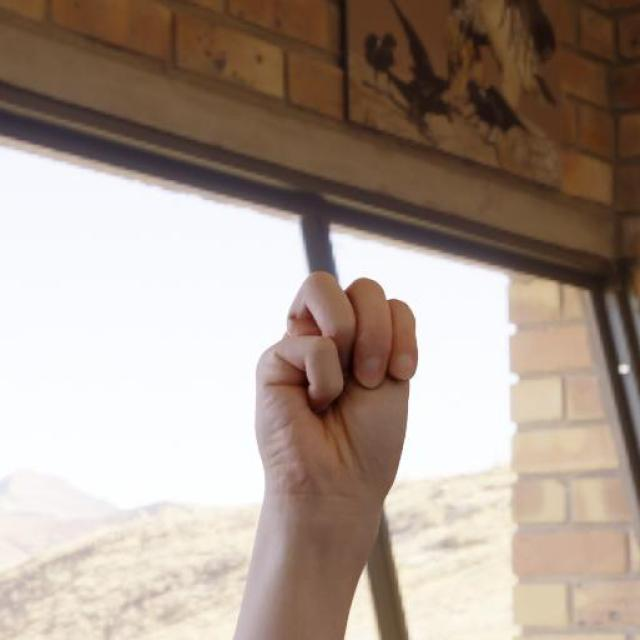M: (252, 270, 420, 500)
